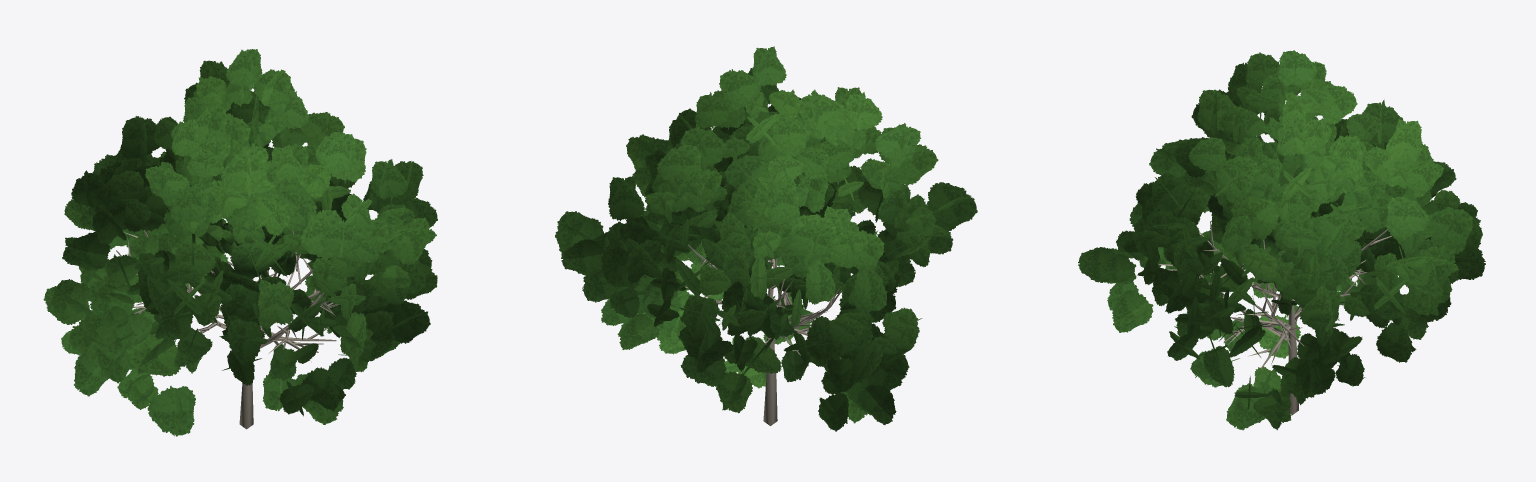
The model's file is laurel-bajo.glb.
3 views of the same model, side by side, from view 1: azimuth 30°, elevation 25°; view 2: azimuth 150°, elevation 25°; view 3: azimuth 270°, elevation 25° (orthographic). The views are drawn at different scales.
Parts seen in each view (by area): view 1: laurel; view 2: laurel; view 3: laurel.
Part boxes in pixels (<box>): laurel: <box>43,49,437,436</box>; laurel: <box>555,46,977,431</box>; laurel: <box>1078,50,1485,430</box>.
Size of the model in its own units: 14.05 by 14.28 by 14.8.
Materials: 2 (1 with a texture image).
